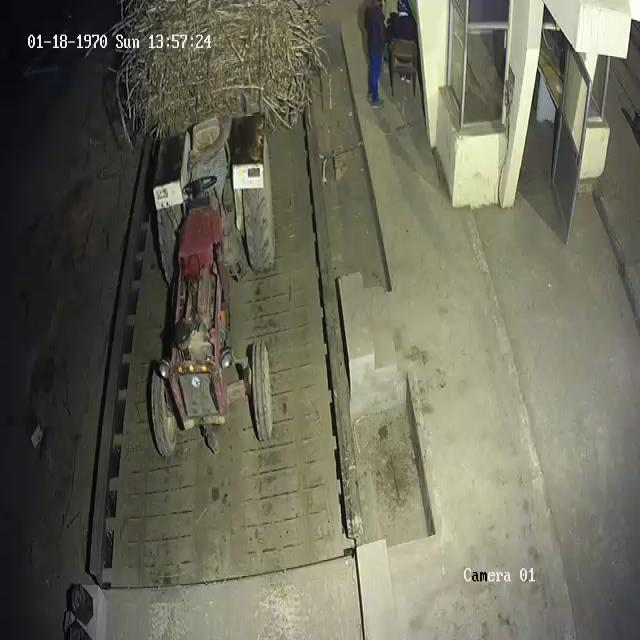Tratores - v5 YOLO V8L 2024-11-13: (142, 106, 283, 468)
